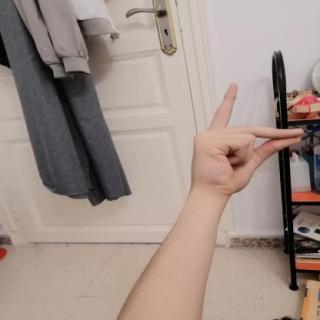TAA: (181, 76, 315, 209)
